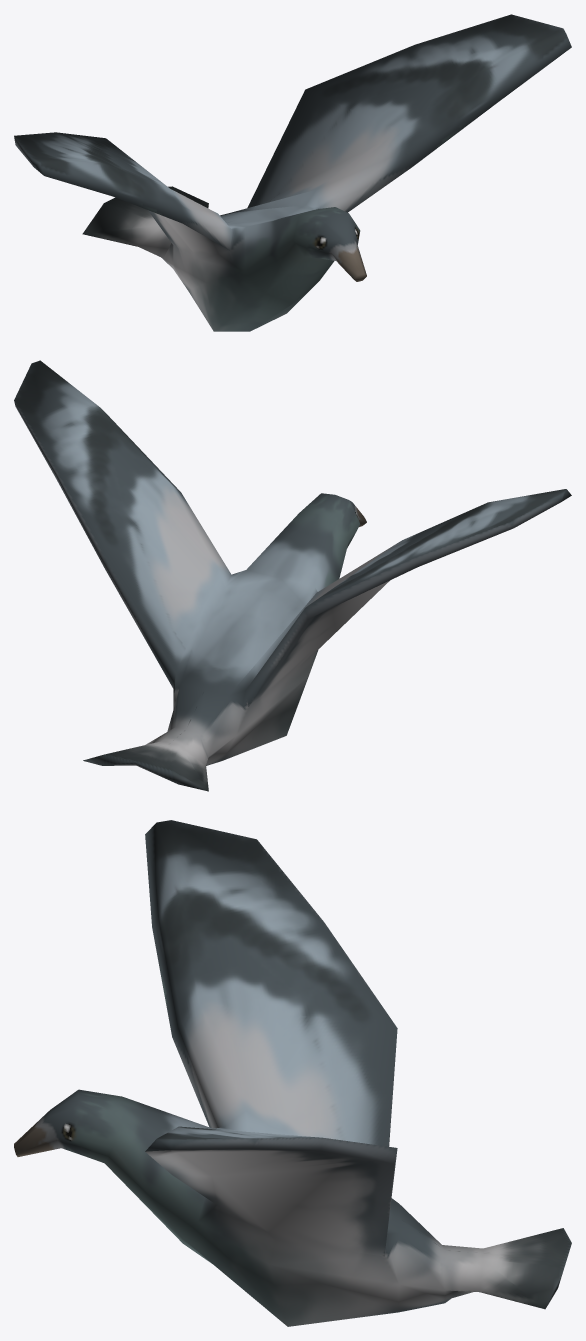
Rendered from Bird_fbx.fbx.
3 renders of one model, top to bottom at view 1: azimuth 30°, elevation 25°; view 2: azimuth 150°, elevation 25°; view 3: azimuth 270°, elevation 25°, orthographic. The views are drawn at different scales.
Visible parts, largest first — view 1: Cube; view 2: Cube; view 3: Cube.
Part boxes in pixels (x1,y1,x2,y2): Cube: [14, 14, 571, 331]; Cube: [14, 360, 571, 791]; Cube: [14, 820, 571, 1326].
Size of the model in its own units: 0.3083 by 0.1512 by 0.2274.
Materials: 1 (1 with a texture image).
